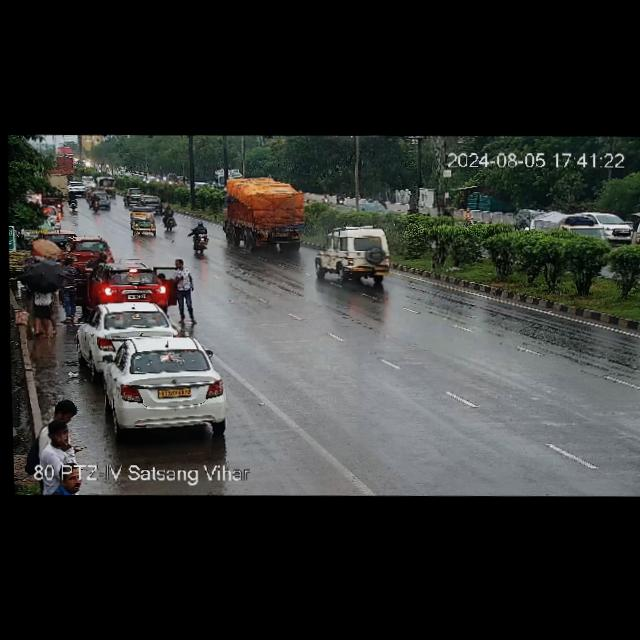car: (87, 334, 232, 434), (77, 302, 178, 362), (314, 225, 387, 286), (65, 236, 116, 268), (39, 204, 71, 245), (600, 213, 633, 243), (128, 209, 162, 237), (132, 191, 172, 211), (122, 186, 150, 203), (517, 208, 535, 227), (67, 181, 89, 194), (359, 203, 385, 212), (99, 191, 111, 210), (81, 176, 95, 186)
motorcycle: (185, 221, 215, 253), (159, 204, 179, 231), (51, 173, 67, 194), (67, 190, 77, 211), (463, 208, 473, 224), (91, 193, 99, 211), (443, 207, 454, 216), (321, 193, 329, 205), (334, 193, 342, 204)
person: (34, 401, 92, 469), (163, 255, 199, 321), (39, 427, 84, 469), (28, 281, 60, 336), (61, 256, 79, 323)
truck: (224, 177, 323, 253), (537, 207, 603, 242), (54, 154, 75, 183), (211, 168, 229, 187), (105, 175, 117, 196)
